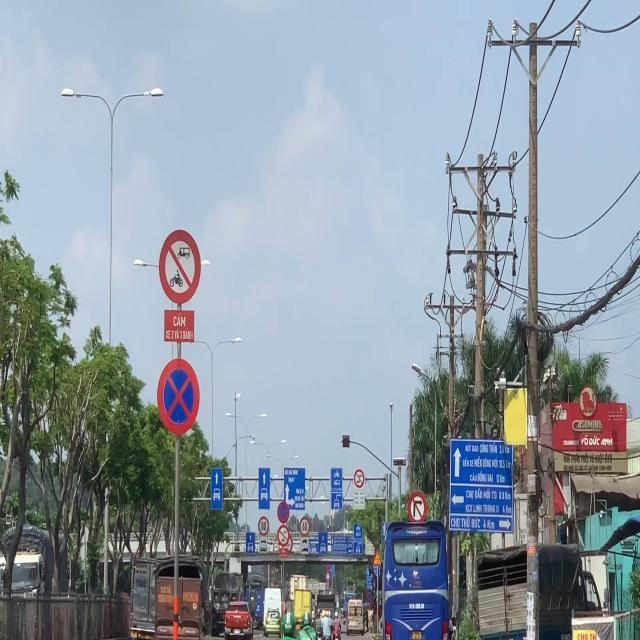Cam con lai: (159, 228, 201, 304), (277, 525, 289, 547), (354, 468, 366, 488)
Cam dung va do: (157, 358, 200, 435), (278, 502, 290, 524), (366, 590, 373, 603)
Cam re phai: (408, 491, 426, 526)
Nguy hiem: (373, 550, 382, 566)
Toc do toi da: (299, 516, 310, 537), (258, 516, 269, 536)
